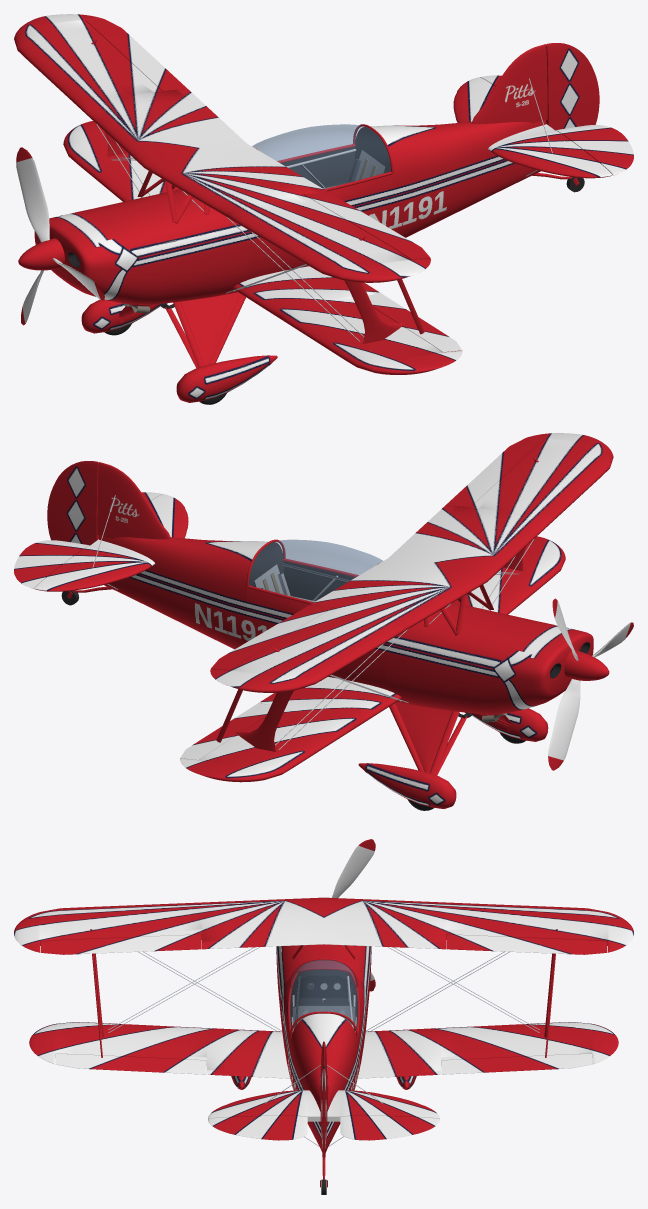
File: pitts-s2b-like-own-n1191.glb
The picture shows the model from 3 angles, top to bottom: view 1: azimuth 30°, elevation 25°; view 2: azimuth 150°, elevation 25°; view 3: azimuth 270°, elevation 25°; orthographic projection. The views are drawn at different scales.
Parts seen in each view (by area): view 1: Fuselage_Painted, Wing_Upper, Wing_Lower, Canopy_Glass, Stab, Wheel_Pants, Rudder, Fin, Prop, Gear_Fairing, Elevator_L, Aileron_UR (+9 smaller); view 2: Fuselage_Painted, Wing_Upper, Wing_Lower, Canopy_Glass, Stab, Wheel_Pants, Rudder, Fin, Prop, Gear_Fairing, Elevator_R, Aileron_UL (+9 smaller); view 3: Wing_Upper, Wing_Lower, Fuselage_Painted, Stab, Canopy_Glass, Aileron_UL, Aileron_UR, Cockpit, Aileron_LL, Aileron_LR, Elevator_L, Elevator_R (+5 smaller).
Boxes of the visible parts, x1,y1,x2,y2 form: Fuselage_Painted: [34, 120, 545, 304]; Wing_Upper: [14, 14, 430, 282]; Wing_Lower: [63, 121, 462, 374]; Canopy_Glass: [252, 124, 390, 188]; Stab: [453, 77, 612, 178]; Wheel_Pants: [81, 299, 277, 402]; Rudder: [546, 43, 599, 130]; Fin: [471, 44, 547, 123]; Prop: [16, 147, 104, 325]; Gear_Fairing: [127, 292, 239, 365]; Elevator_L: [556, 125, 633, 175]; Aileron_UR: [85, 19, 187, 90]; Fuselage_Painted: [99, 535, 593, 714]; Wing_Upper: [210, 433, 613, 692]; Wing_Lower: [180, 536, 565, 782]; Canopy_Glass: [249, 539, 382, 601]; Stab: [34, 494, 188, 591]; Wheel_Pants: [358, 708, 548, 808]; Rudder: [47, 461, 98, 545]; Fin: [97, 462, 170, 539]; Prop: [548, 598, 633, 770]; Gear_Fairing: [395, 702, 503, 773]; Elevator_R: [14, 540, 88, 588]; Aileron_UL: [445, 437, 544, 507]; Wing_Upper: [14, 897, 633, 952]; Wing_Lower: [29, 1022, 618, 1078]; Fuselage_Painted: [276, 944, 371, 1153]; Stab: [208, 1090, 439, 1121]; Canopy_Glass: [289, 960, 358, 1029]; Aileron_UL: [40, 934, 201, 954]; Aileron_UR: [446, 934, 607, 954]; Cockpit: [291, 975, 356, 1032]; Aileron_LL: [56, 1054, 206, 1074]; Aileron_LR: [441, 1054, 591, 1074]; Elevator_L: [208, 1116, 307, 1140]; Elevator_R: [340, 1116, 439, 1140].
Bounding box in the file's own units: 5.72 × 2.18 × 6.09.
Materials: 30 (8 with a texture image).
